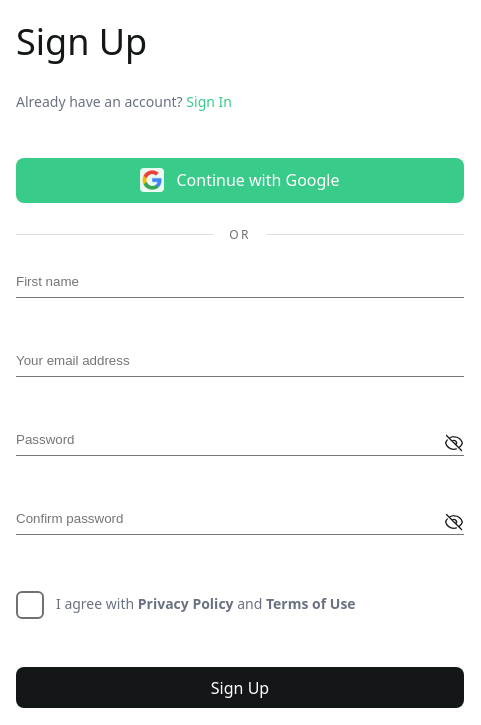
Feature: RegisterForm › should show pending verification state for existing unconfirmed email
The image size is (481, 725).
Type "John" into the field with placeholder "First name" at (240, 285), box [16,273,464,298]
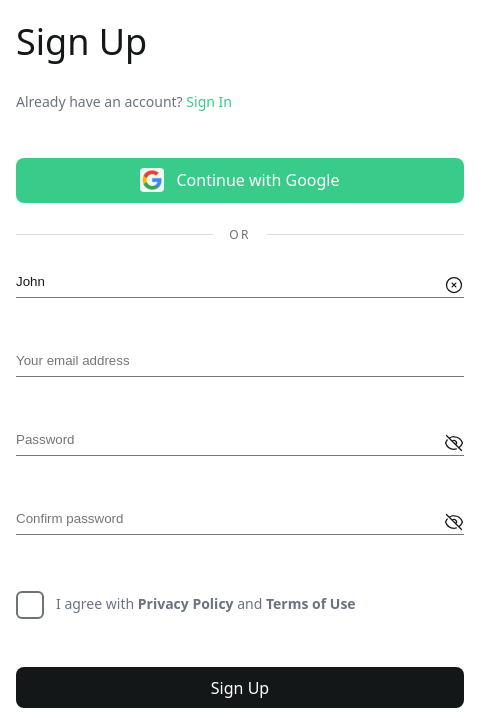
Type "pending@test.com" into the field with placeholder "Your email address" at (240, 364), box [16,352,464,377]
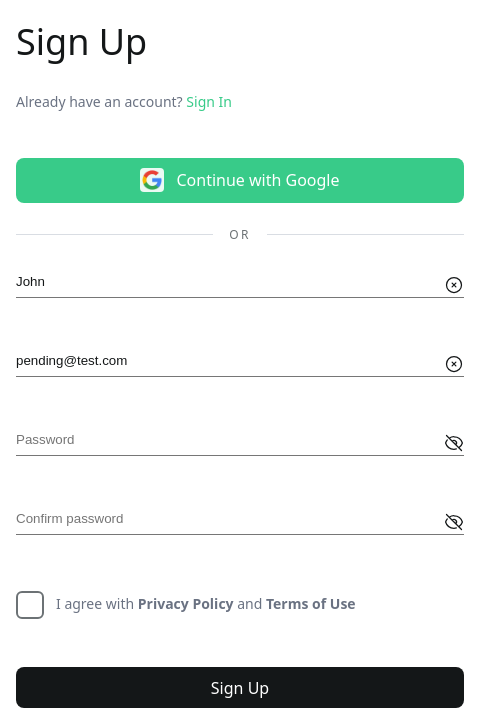
Type "Password1!" into the password field with placeholder "Password" at (240, 443), box [16,431,464,456]
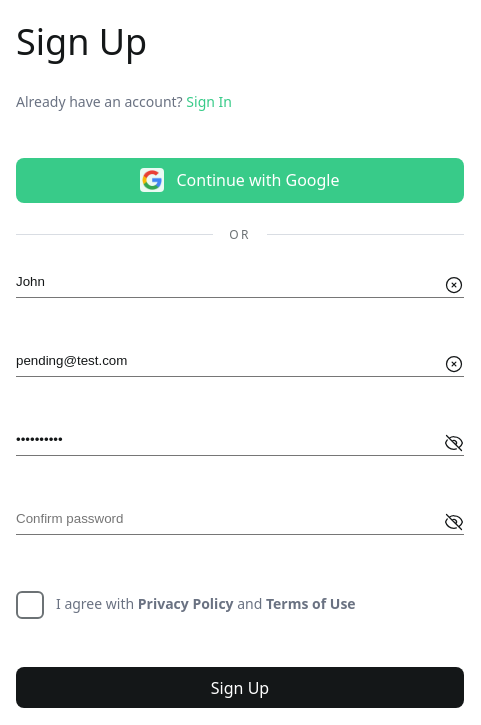
Type "Password1!" into the password field with placeholder "Confirm password" at (240, 522), box [16,510,464,535]
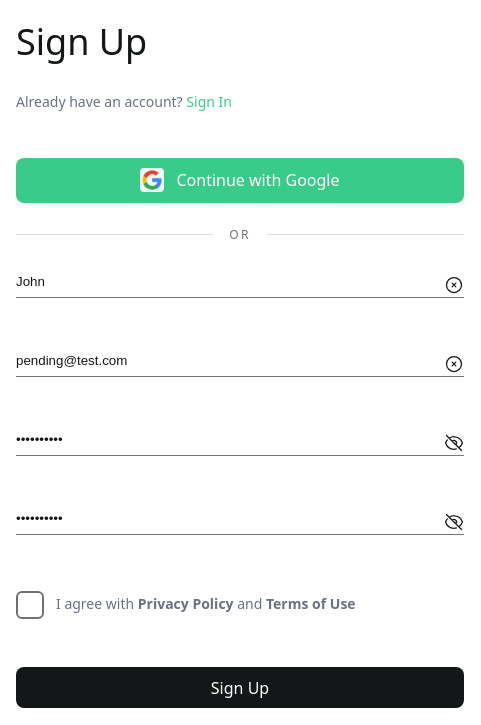
Click the checkbox at (30, 605), box [16,591,44,619]
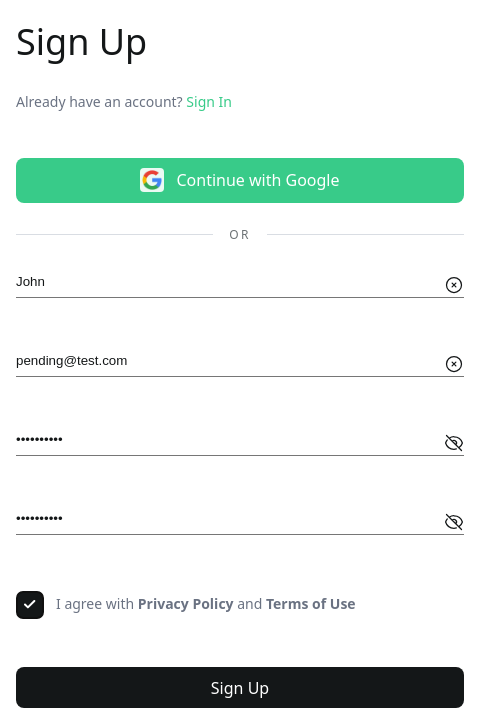
Click the button "Sign Up" at (240, 688), box [16,667,464,708]
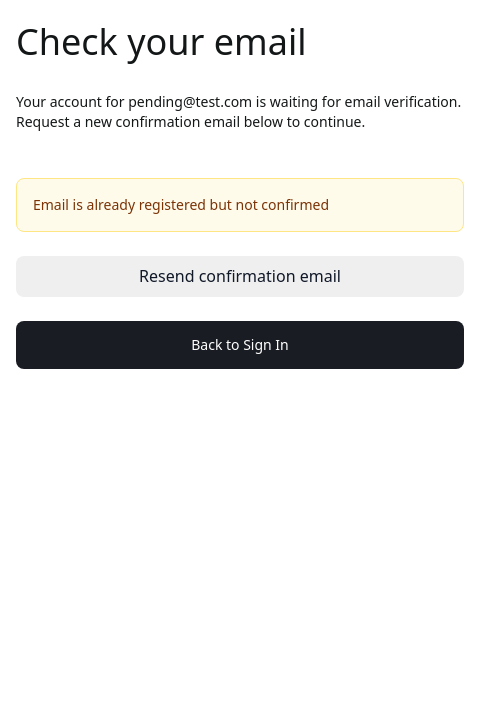
Expected: the heading "Check your email" is shown, [16,17,306,66]
Expected: the text "Email is already registered but not confirmed" is shown, [16,178,464,232]
Expected: the button "Resend confirmation email" is shown, [16,256,464,297]
